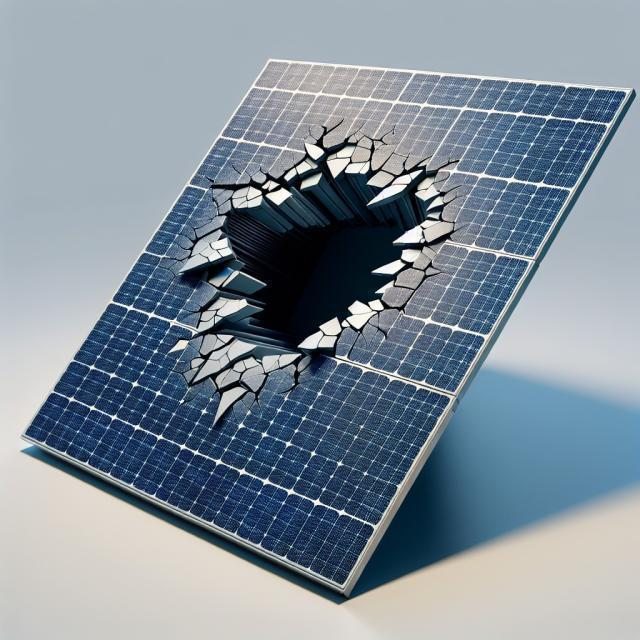Anomaly Solar Panel: (23, 59, 632, 592)
Structural Damage: (97, 63, 515, 432)
